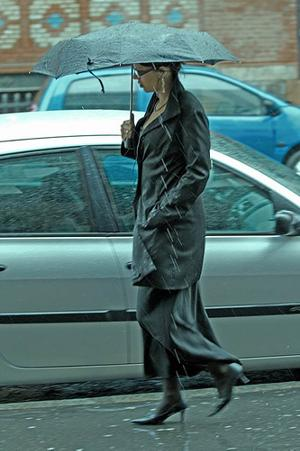person: (121, 61, 248, 429)
